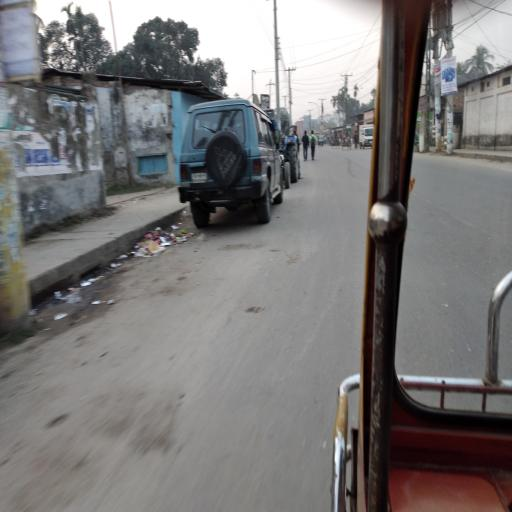auto rickshaw: (318, 134, 326, 149)
pickup: (358, 125, 376, 151)
rickshaw: (342, 132, 353, 152), (333, 133, 341, 150)
suv: (180, 97, 287, 231)
